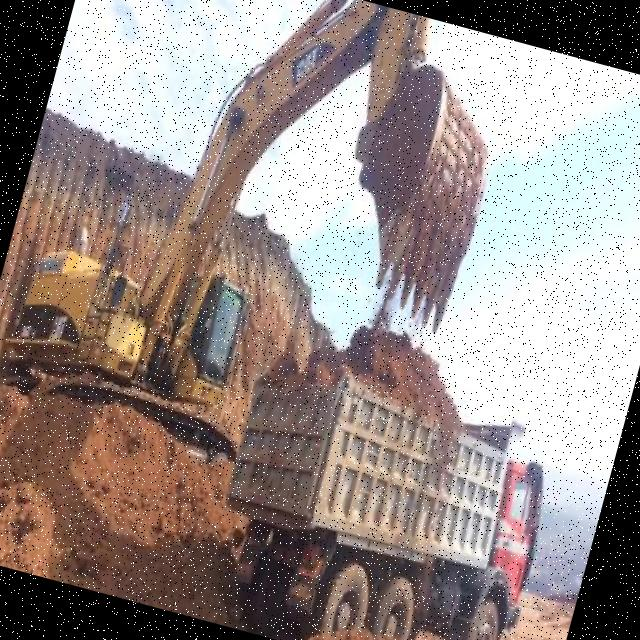Dump Truck: (191, 303, 588, 640)
Excavator: (0, 0, 524, 497)
